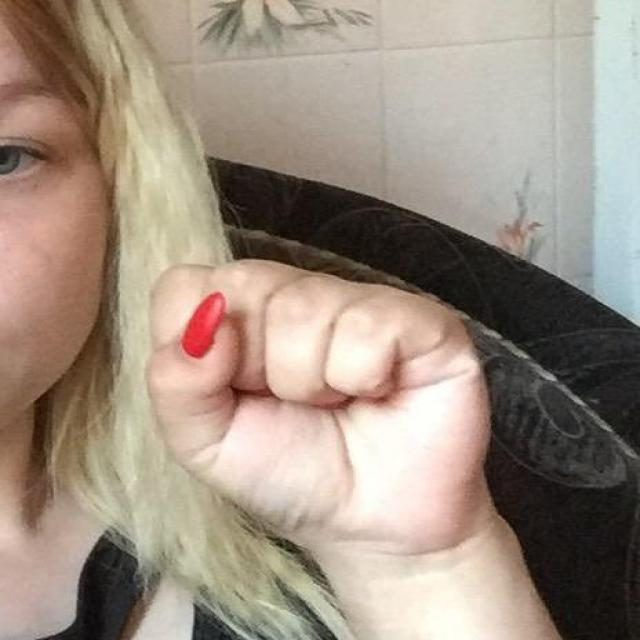hand: (142, 255, 501, 557)
